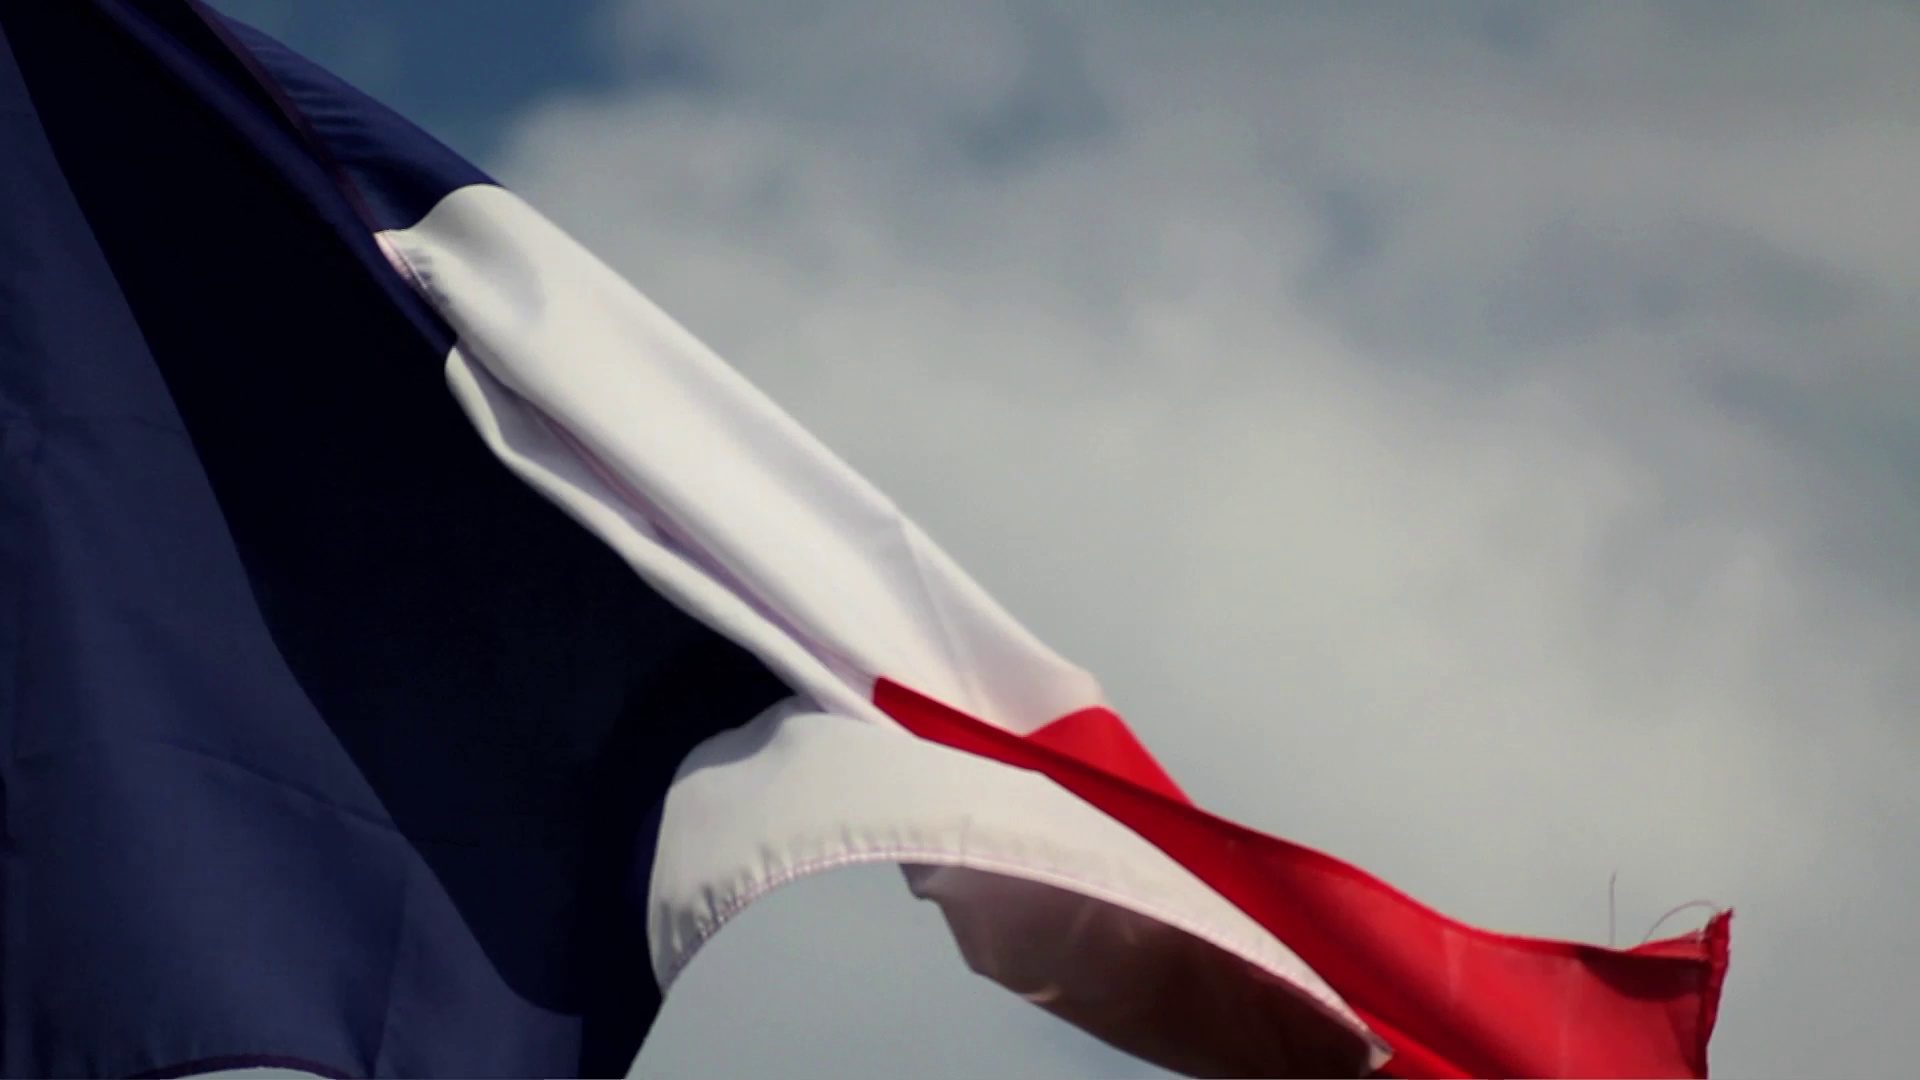French Flag: (1, 1, 1731, 1080)
